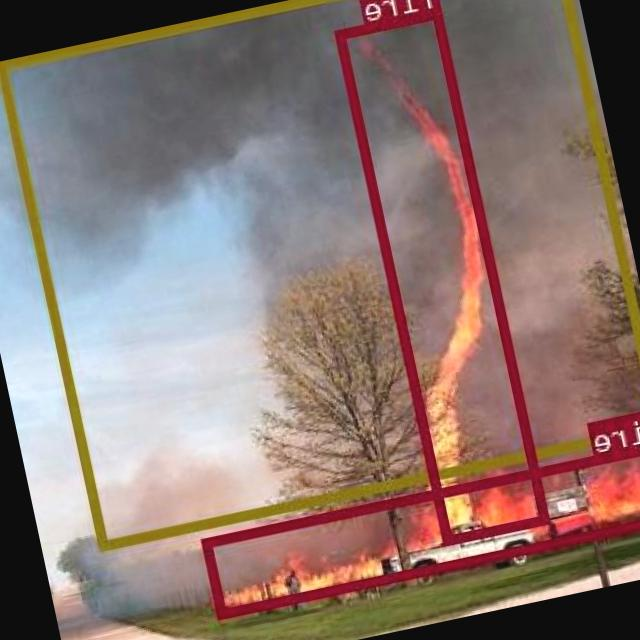fire: (336, 6, 551, 544), (204, 437, 640, 616)
smoke: (0, 0, 640, 549)
